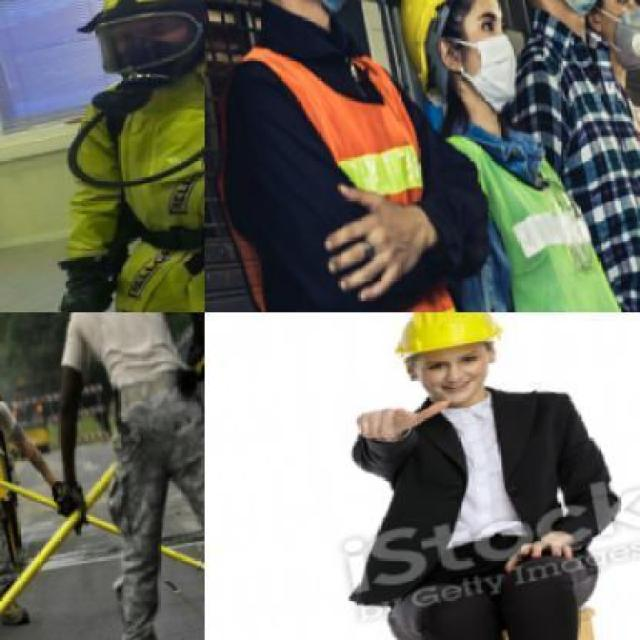Vest: (231, 0, 475, 311), (49, 9, 203, 311), (435, 92, 623, 311), (611, 111, 638, 311)
